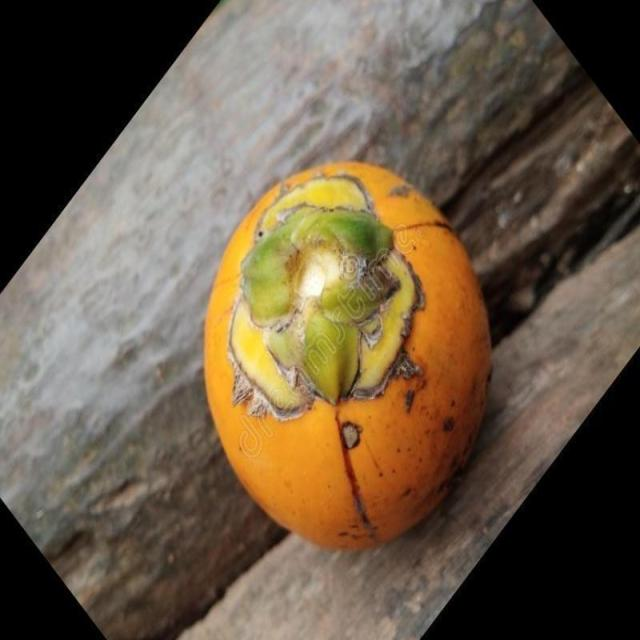good: (204, 163, 490, 551)
